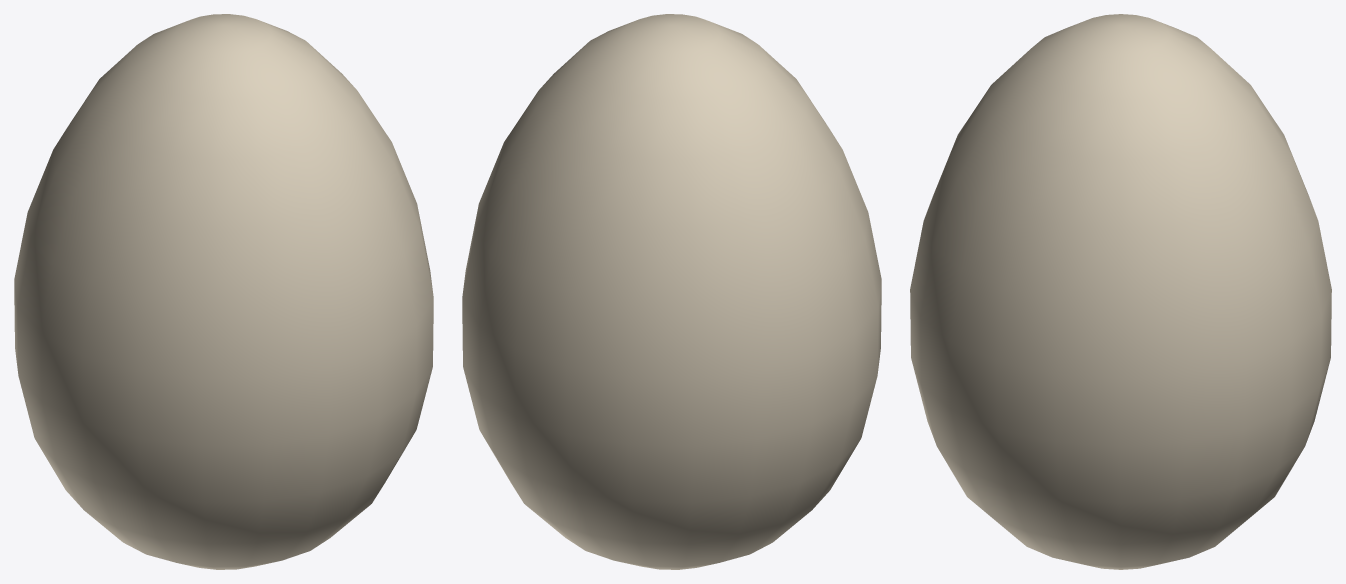
File: egg.glb
3 renders of one model, left to right at view 1: azimuth 30°, elevation 25°; view 2: azimuth 150°, elevation 25°; view 3: azimuth 270°, elevation 25°, orthographic.
Visible parts, largest first — view 1: egg; view 2: egg; view 3: egg.
Part boxes in pixels (left/top/right/bottom): egg: left=14, top=14, right=433, bottom=569; egg: left=462, top=14, right=881, bottom=569; egg: left=910, top=14, right=1331, bottom=569.
Size of the model in its own units: 0.042 by 0.058 by 0.042.
